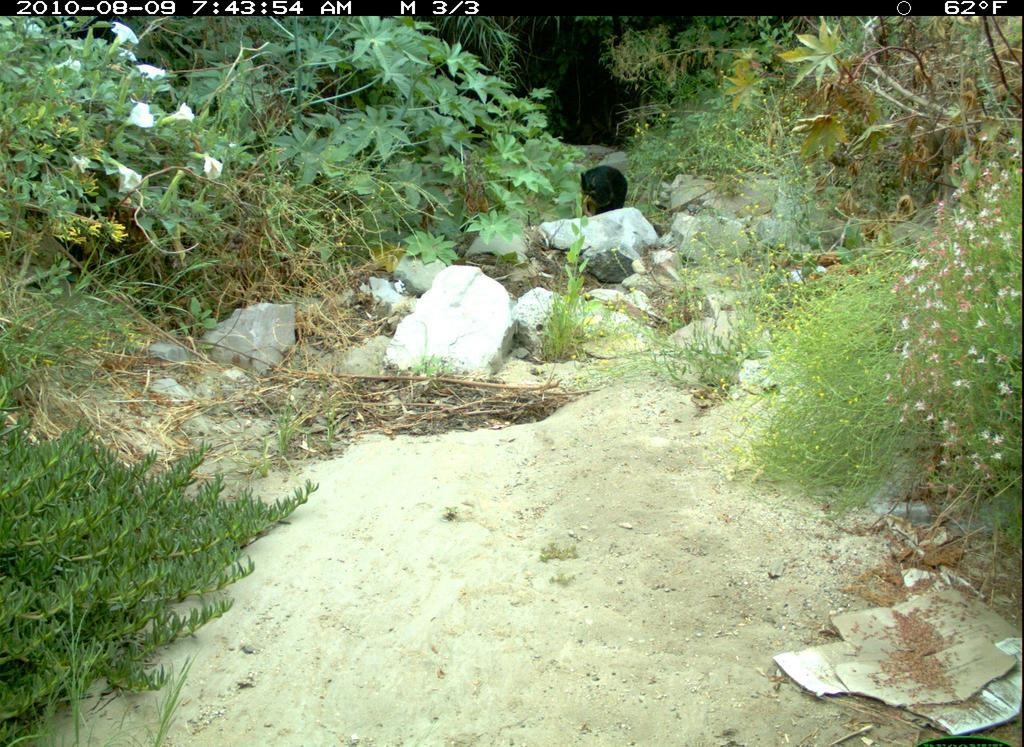dog: (579, 154, 633, 221)
